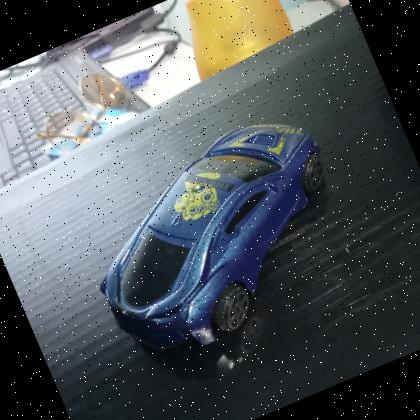Car: (59, 95, 380, 380)
